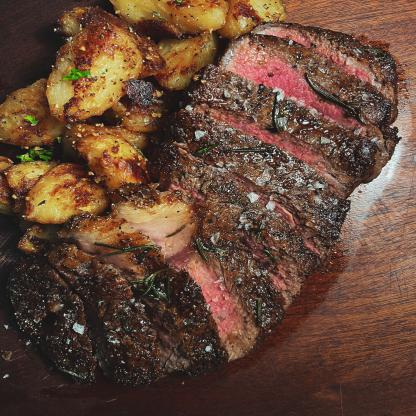Carne: (102, 248, 283, 358), (214, 65, 362, 189), (250, 22, 394, 137)
